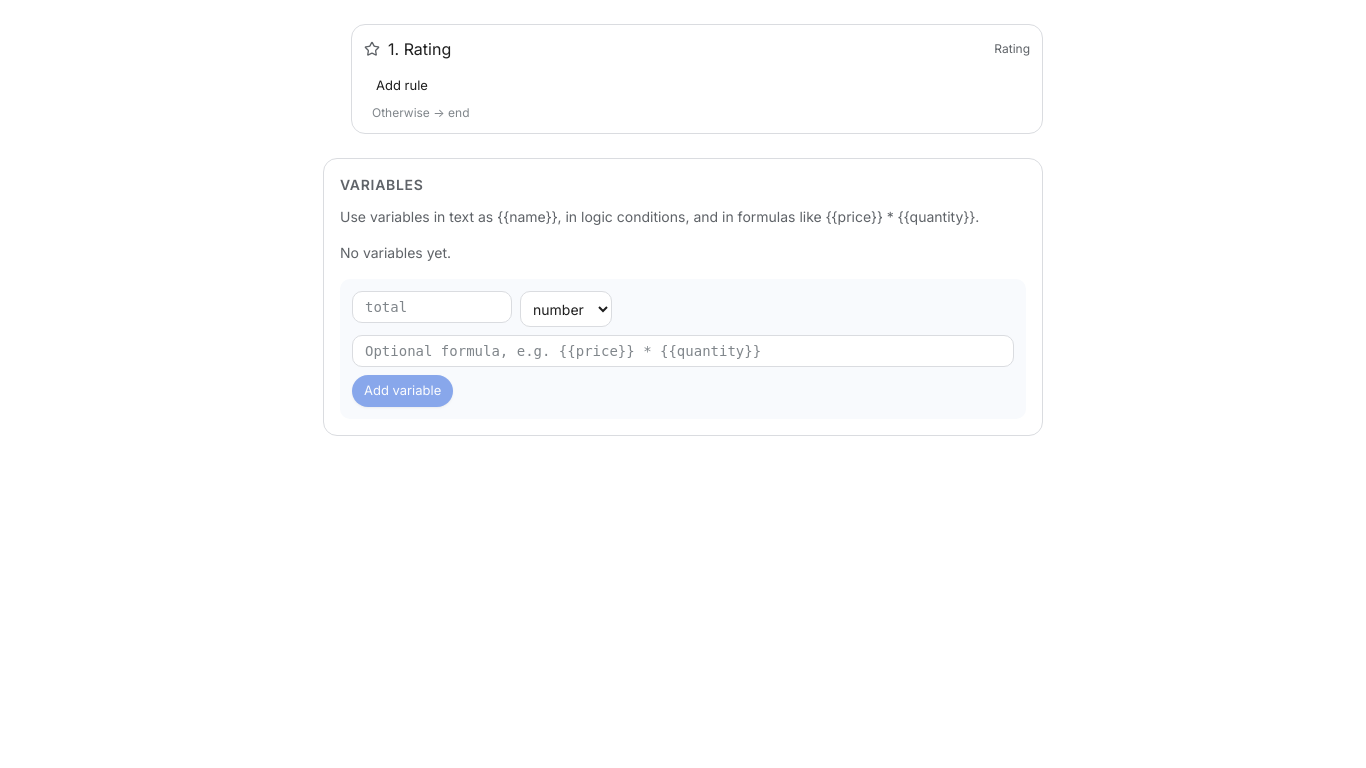
Scenario: WorkflowTab › clicking "Add rule" for a question with no rules opens the LogicPanel too
Click the button "Add rule" at x=402, y=85, box [364, 69, 440, 101]
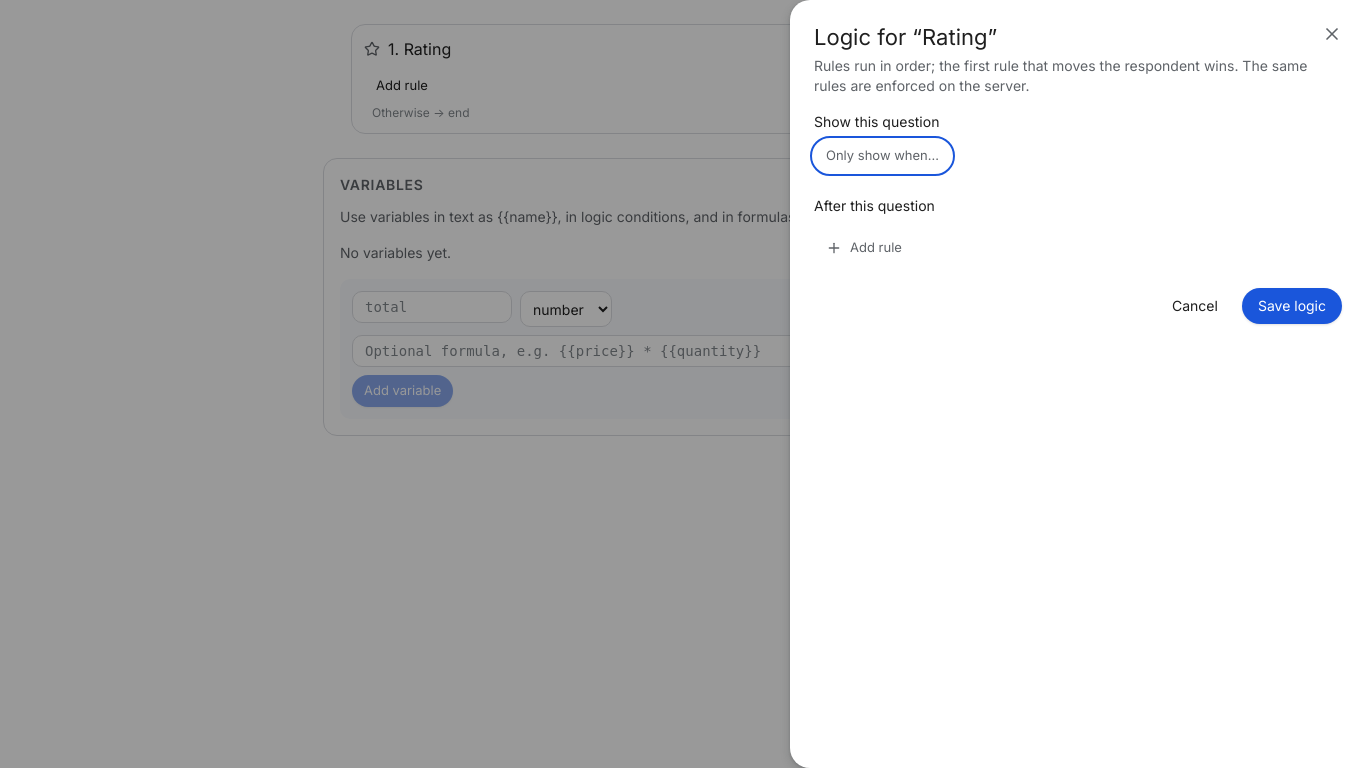
Now the dialog "Logic for “Rating”" is shown, box [790, 0, 1365, 767]
